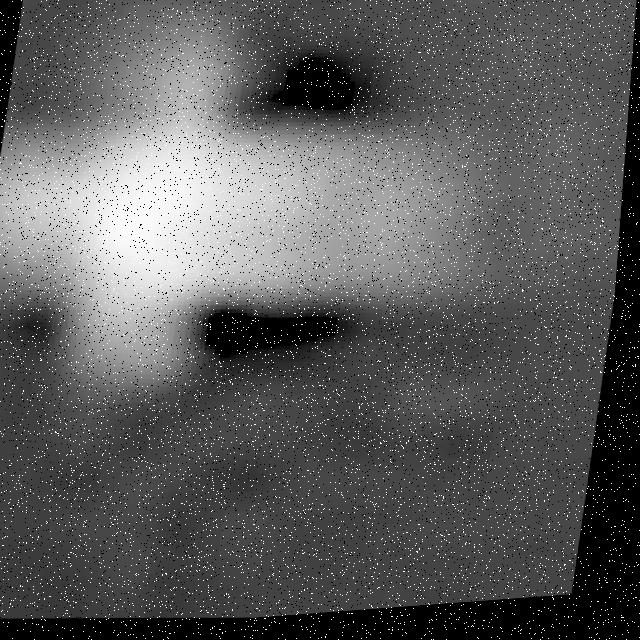person: (1, 9, 510, 381)
